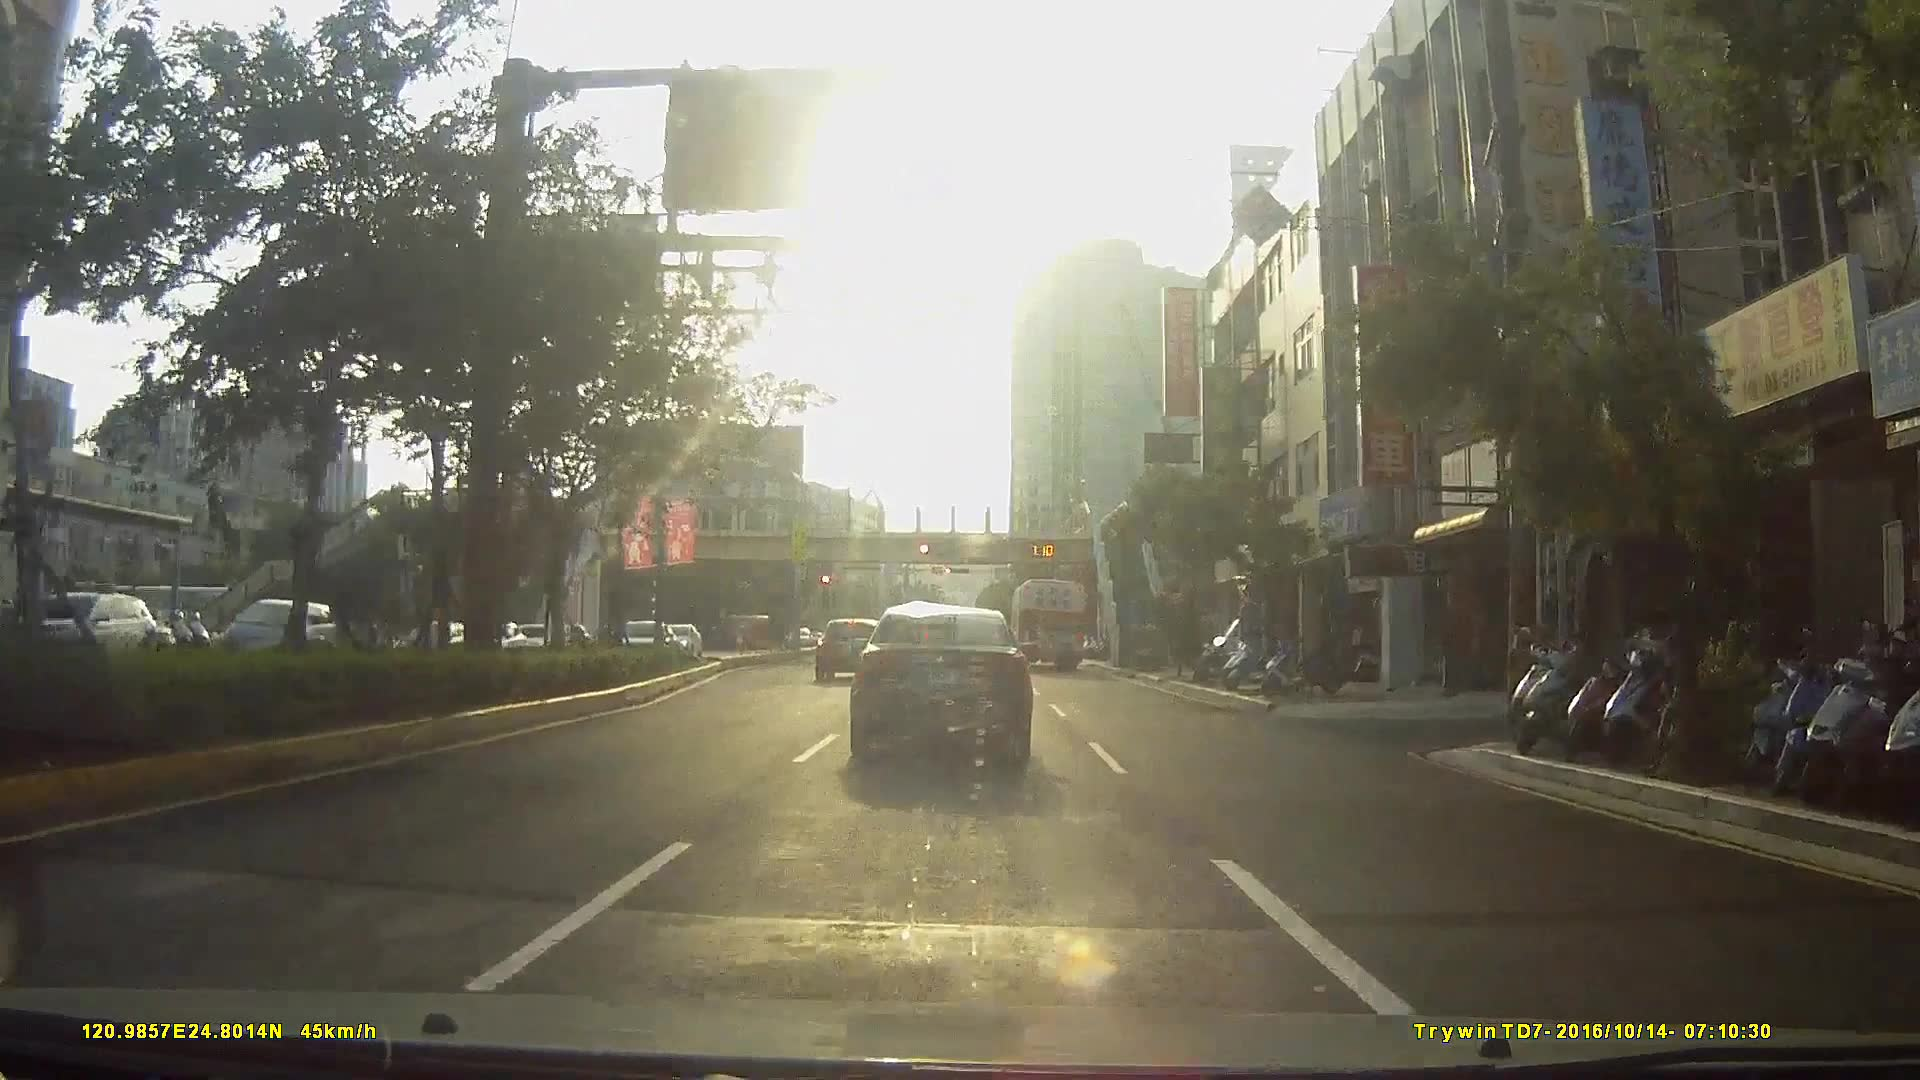vehicle: (847, 604, 1034, 767), (237, 537, 334, 669), (214, 596, 336, 665), (1006, 574, 1088, 673), (814, 615, 884, 683)
